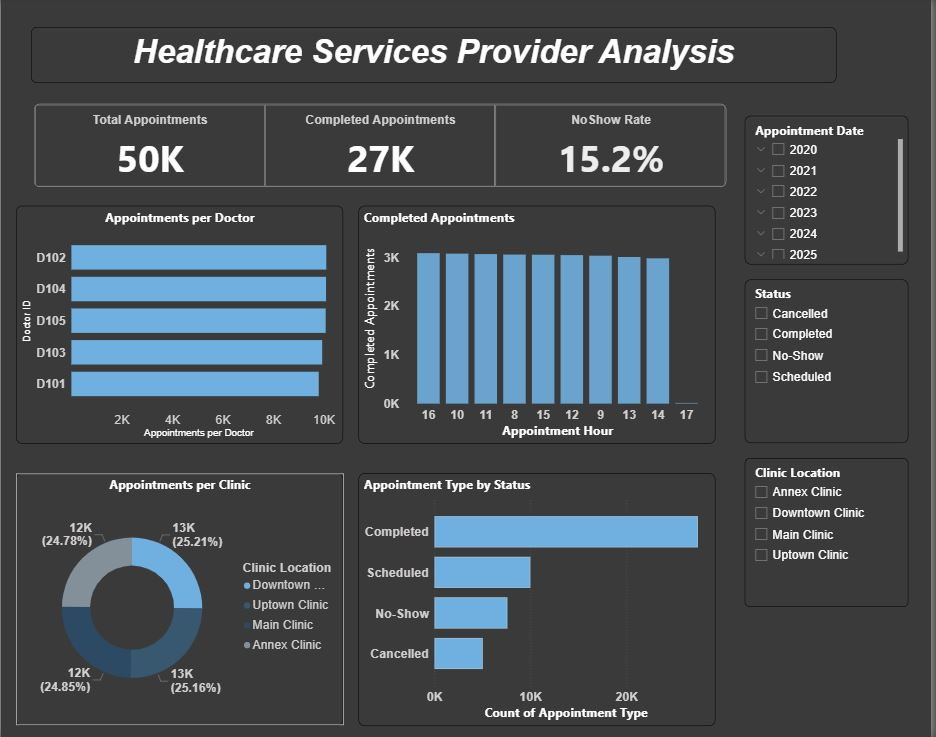

The page's visual inventory and layout, read from the dashboard file:
{"tool":"powerbi","page":{"name":"Page 1","canvas":[1500,1200],"ordinal":0},"visuals":[{"type":"cardVisual","title":"KPI CARDS","fields":{"Data":["Formatted Data.Total Appointments","Formatted Data.Completed Appointments","Formatted Data.NoShow Rate"]},"box":[48,168,1128,144],"z":0},{"type":"clusteredBarChart","title":"Appointments per Doctor ","fields":{"Category":["Formatted Data.Doctor ID"],"Y":["Formatted Data.Appointments per Doctor"]},"box":[24,336,528,384],"z":1000},{"type":"donutChart","title":"Appointments per Clinic ","fields":{"Category":["Formatted Data.Clinic Location"],"Y":["Formatted Data.Appointments per Clinic"]},"box":[24,768,528,408],"z":1001},{"type":"clusteredColumnChart","title":"Completed Appointments ","fields":{"Y":["Formatted Data.Completed Appointments"],"Category":["Formatted Data.Appointment Hour"]},"box":[576,336,576,384],"z":1002},{"type":"slicer","fields":{"Values":["Formatted Data.Appointment Date/Time.Variation.Date Hierarchy.Year","Formatted Data.Appointment Date/Time.Variation.Date Hierarchy.Month","Formatted Data.Appointment Date/Time.Variation.Date Hierarchy.Day"]},"box":[1200,192,264,240],"z":1004},{"type":"slicer","fields":{"Values":["Formatted Data.Status"]},"box":[1200,456,264,264],"z":1005},{"type":"slicer","fields":{"Values":["Formatted Data.Clinic Location"]},"box":[1200,744,264,240],"z":1006},{"type":"clusteredBarChart","title":"Appointment Type by Status","fields":{"Category":["Formatted Data.Status"],"Y":["CountNonNull(Formatted Data.Appointment Type)"]},"box":[576,768,576,408],"z":1007},{"type":"textbox","box":[48,48,1300,90],"z":1008}]}

Visuals, with their boxes in screenshot pixels (x1, y1, x2, y2), scaled from the page's 1500x1200 canvas onto the 936x737 screenshot:
"KPI CARDS" cardVisual: 30, 103, 734, 192
"Appointments per Doctor " clusteredBarChart: 15, 206, 344, 442
"Appointments per Clinic " donutChart: 15, 472, 344, 722
"Completed Appointments " clusteredColumnChart: 359, 206, 719, 442
slicer - Formatted Data.Appointment Date/Time.Variation.Date Hierarchy.Year x Formatted Data.Appointment Date/Time.Variation.Date Hierarchy.Month: 749, 118, 914, 265
slicer - Formatted Data.Status: 749, 280, 914, 442
slicer - Formatted Data.Clinic Location: 749, 457, 914, 604
"Appointment Type by Status" clusteredBarChart: 359, 472, 719, 722
textbox: 30, 29, 841, 85
